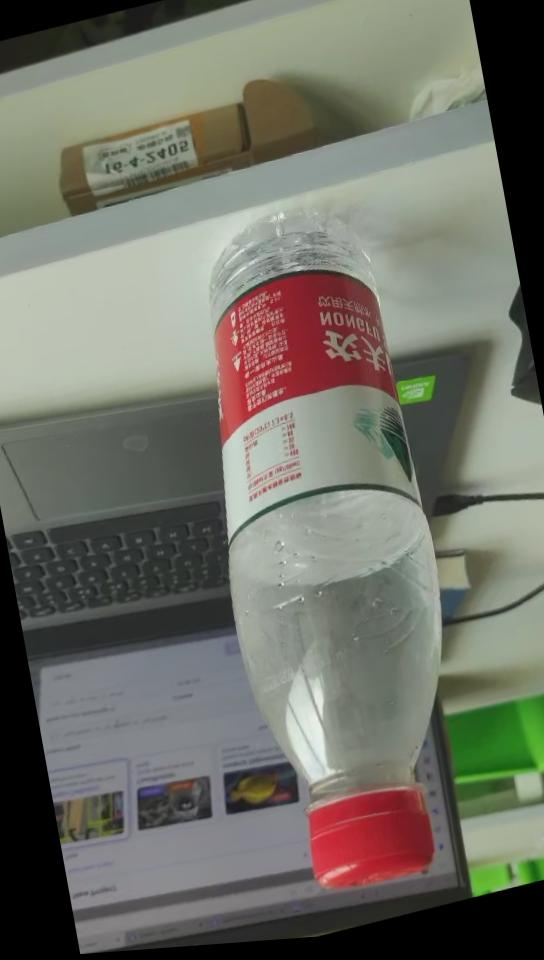plastic: (210, 201, 464, 909)
